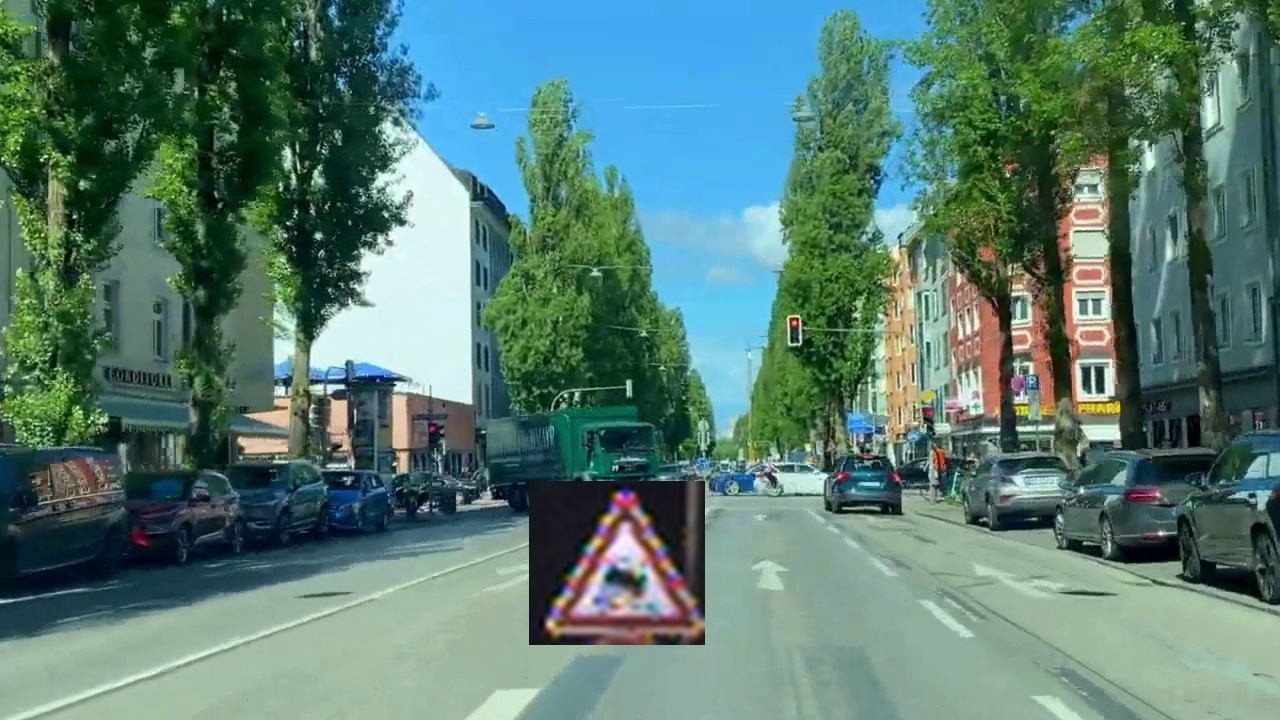Slippery: (529, 481, 705, 645)
